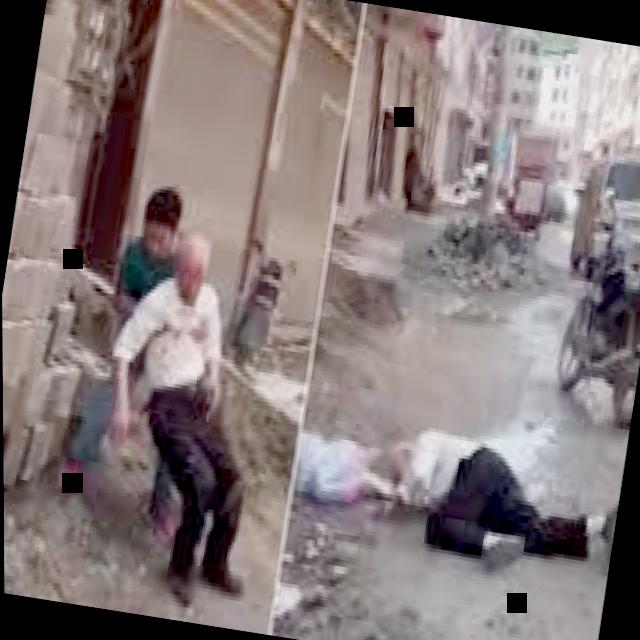Fall-Detected: (68, 209, 324, 606)
